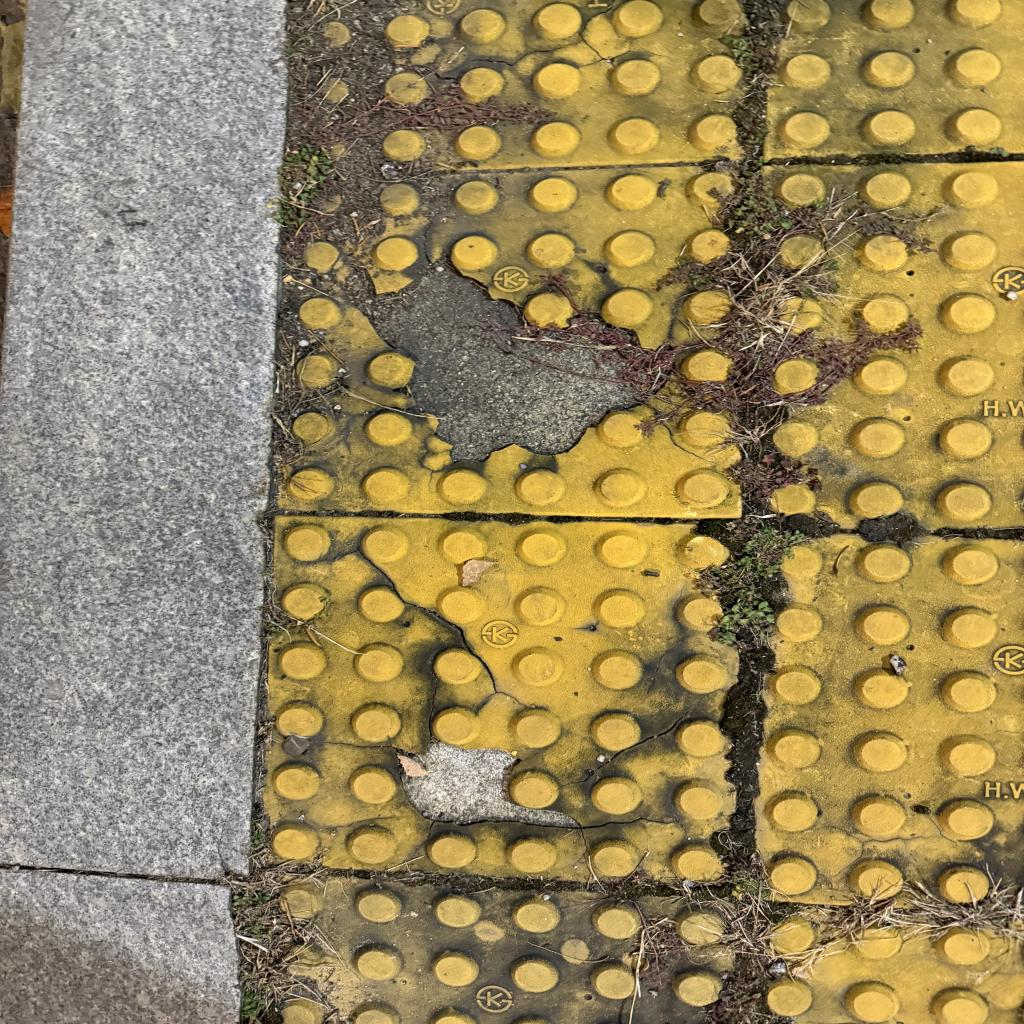Stop block broken: (263, 523, 732, 882), (284, 179, 737, 510)
